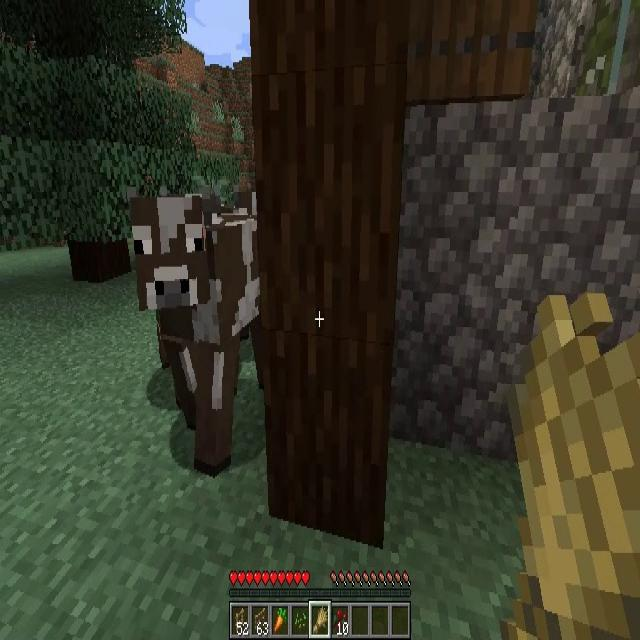cow: (130, 190, 256, 477)
